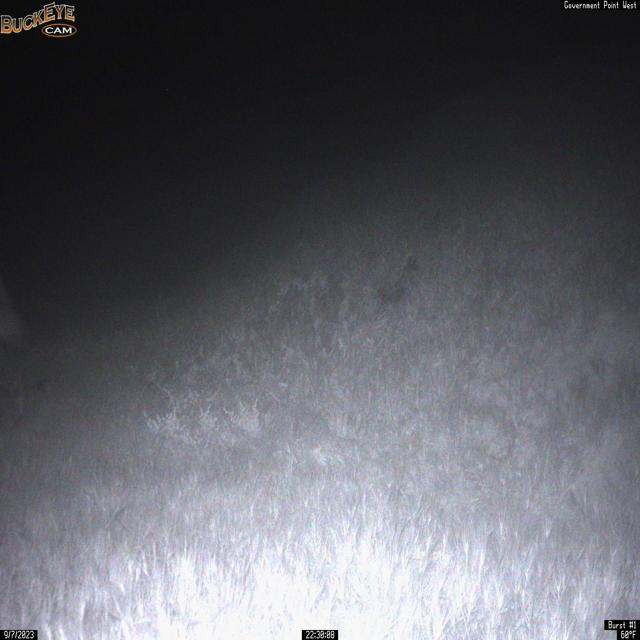coyote: (0, 254, 30, 358)
